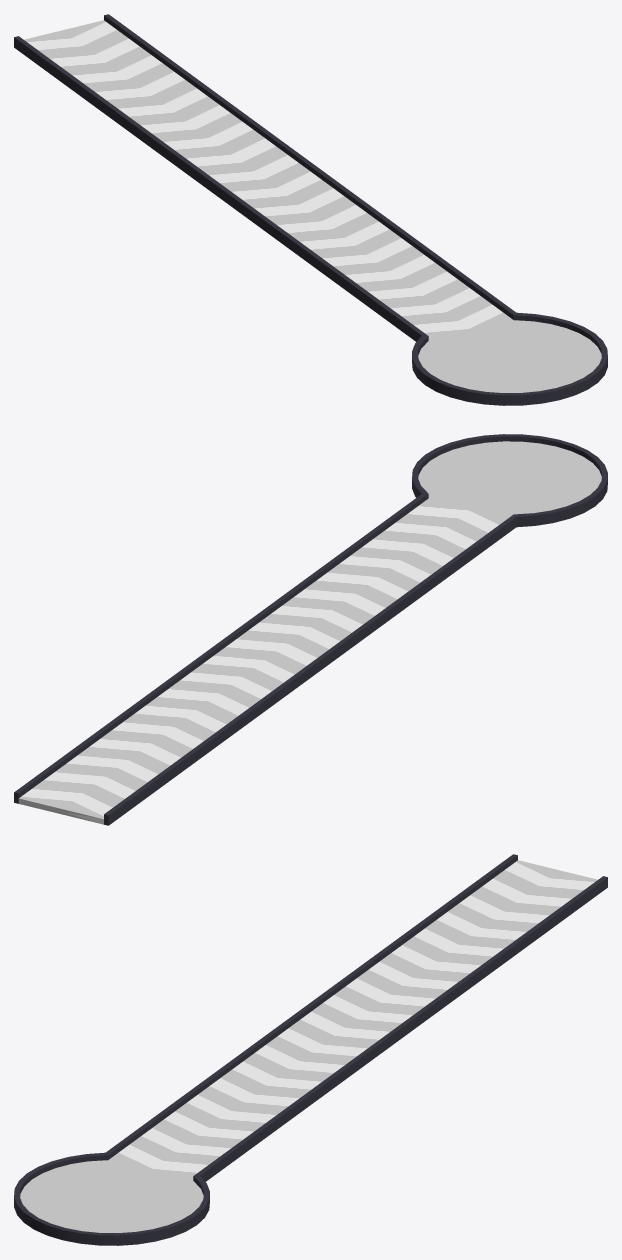
Rendered from road_end.fbx.
3 renders of one model, top to bottom at view 1: azimuth 30°, elevation 25°; view 2: azimuth 150°, elevation 25°; view 3: azimuth 330°, elevation 25°, orthographic.
Visible parts, largest first — view 1: Cylinder.002; view 2: Cylinder.002; view 3: Cylinder.002.
Boxes of the visible parts, <box> form: Cylinder.002: <box>14,14,607,405</box>; Cylinder.002: <box>14,434,607,825</box>; Cylinder.002: <box>14,854,607,1245</box>.
Size of the model in its own units: 7.19 by 0.4161 by 36.44.
